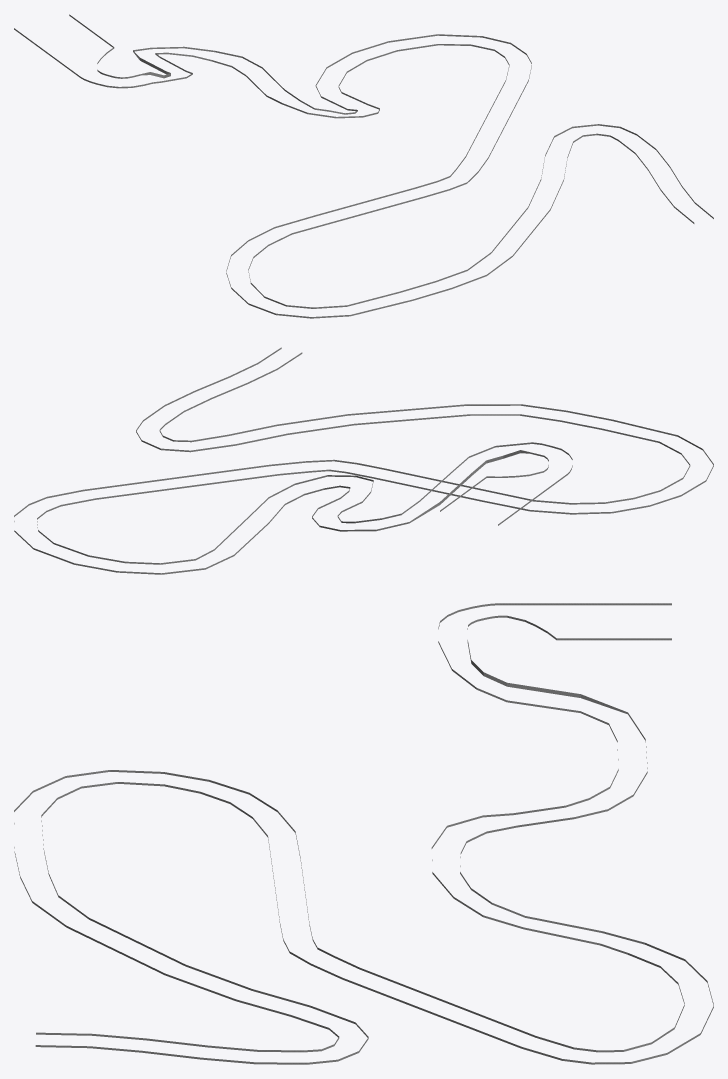
The model's file is roadWalls.glb.
3 renders of one model, top to bottom at view 1: azimuth 30°, elevation 25°; view 2: azimuth 150°, elevation 25°; view 3: azimuth 270°, elevation 25°, orthographic. The views are drawn at different scales.
Parts seen in each view (by area): view 1: Wall; view 2: Wall; view 3: Wall.
Part boxes in pixels (x1,y1,x2,y2): Wall: (14, 14, 713, 318); Wall: (14, 347, 713, 574); Wall: (14, 603, 713, 1064).
Bounding box in the file's own units: 488 × 118 × 476.
1 material, 1 textured.
